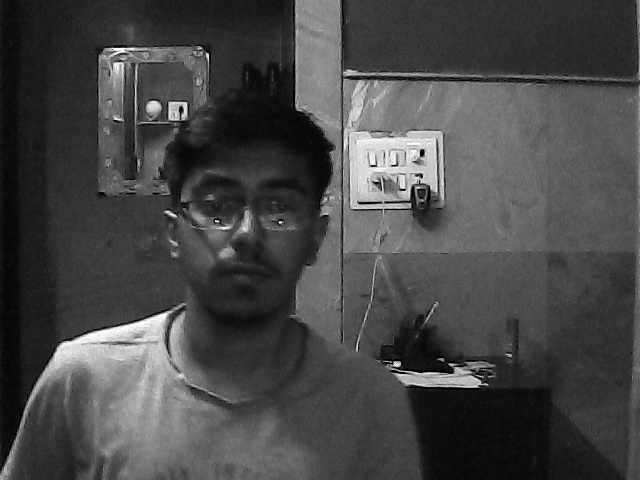nomask: (174, 141, 318, 322)
